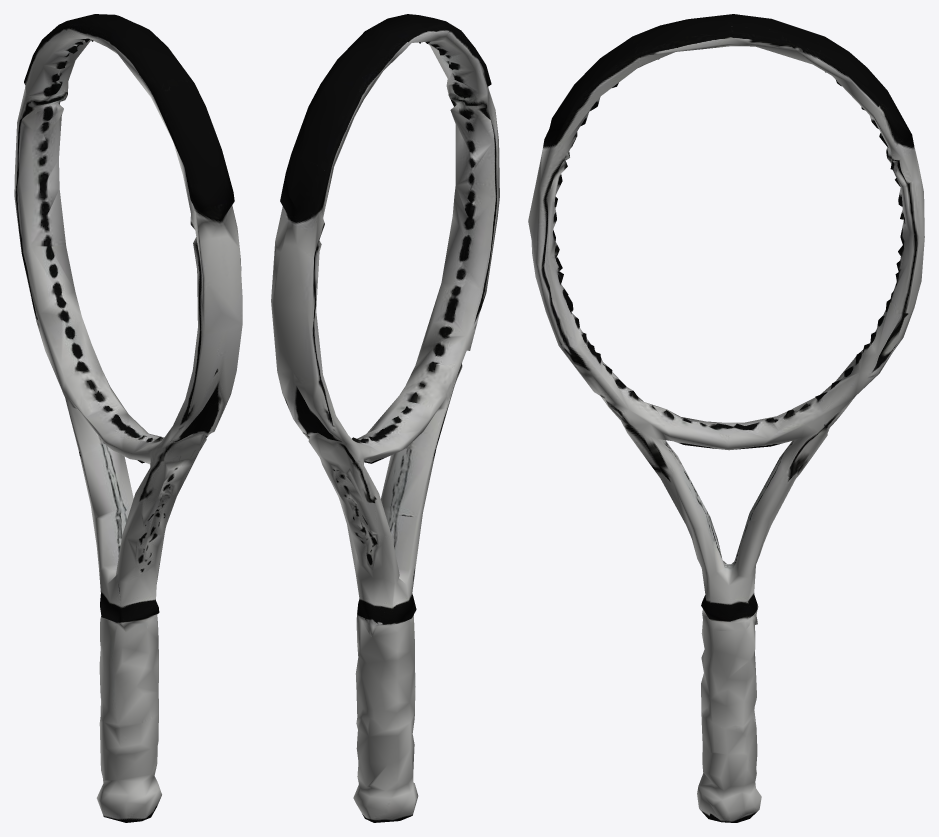
The model's file is schlaeger.glb.
3 renders of one model, left to right at view 1: azimuth 30°, elevation 25°; view 2: azimuth 150°, elevation 25°; view 3: azimuth 270°, elevation 25°, orthographic.
Parts seen in each view (by area): view 1: tripo_node_b9cd9360-32ef-4bb6-9302-709ce11daf9e; view 2: tripo_node_b9cd9360-32ef-4bb6-9302-709ce11daf9e; view 3: tripo_node_b9cd9360-32ef-4bb6-9302-709ce11daf9e.
Boxes of the visible parts, box(x1,y1,x2,y2) form: tripo_node_b9cd9360-32ef-4bb6-9302-709ce11daf9e: box(14, 14, 242, 822); tripo_node_b9cd9360-32ef-4bb6-9302-709ce11daf9e: box(271, 14, 499, 822); tripo_node_b9cd9360-32ef-4bb6-9302-709ce11daf9e: box(528, 14, 924, 822).
Bounding box in the file's own units: 0.0779 × 0.9982 × 0.4524.
Materials: 1 (1 with a texture image).
